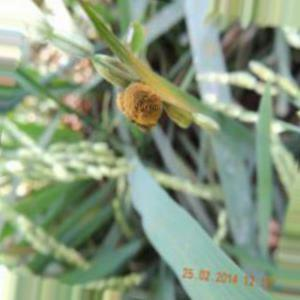Leaf_Scald: (120, 76, 163, 129)
